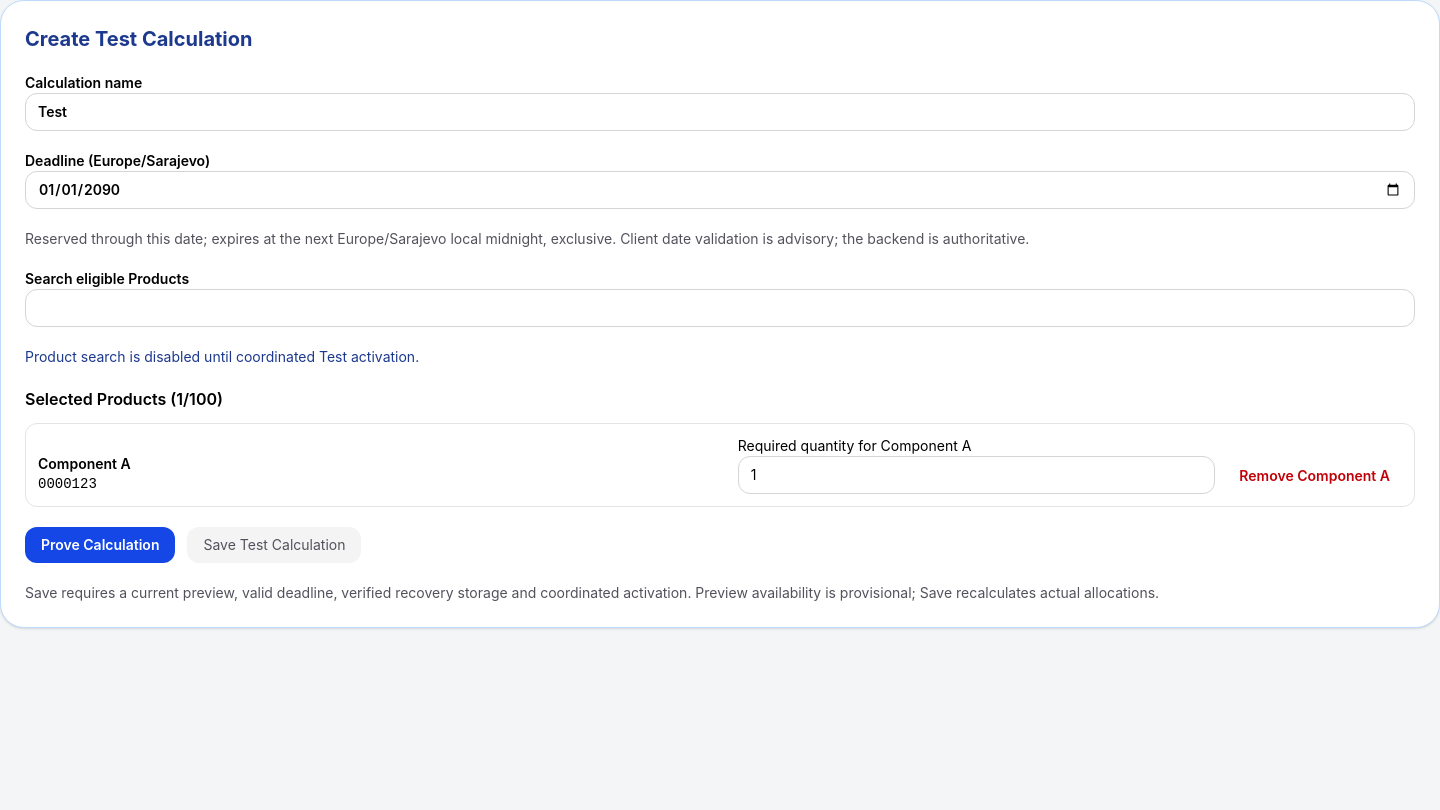
Test case: Test Calculation editor › rejects invalid quantity 0 visibly
Replace the text in the field labelled "Required quantity for Component A" with "0" at coordinates (976, 475), box [738,456,1215,494]
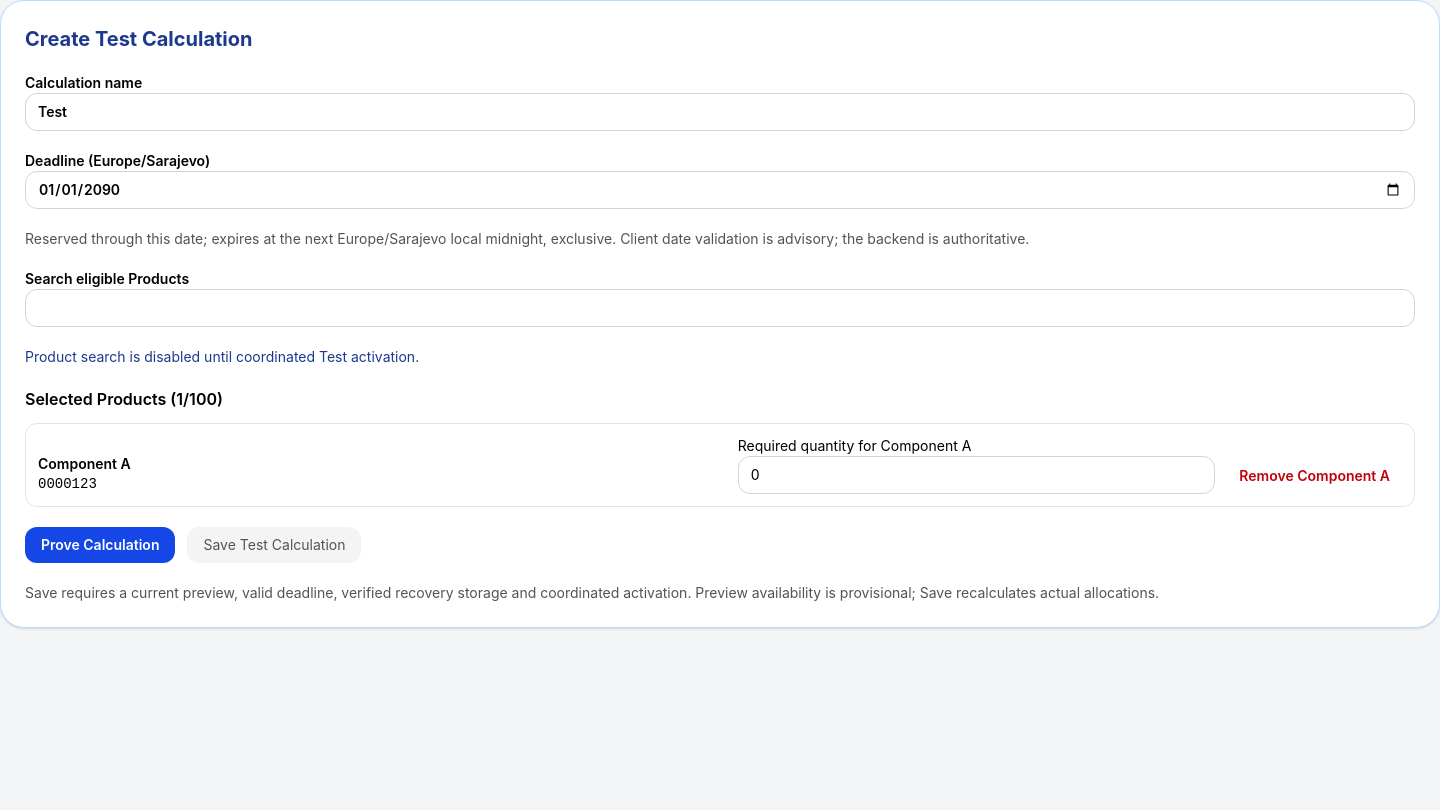
Click the button "Prove Calculation" at coordinates (100, 545), box [25,527,176,563]
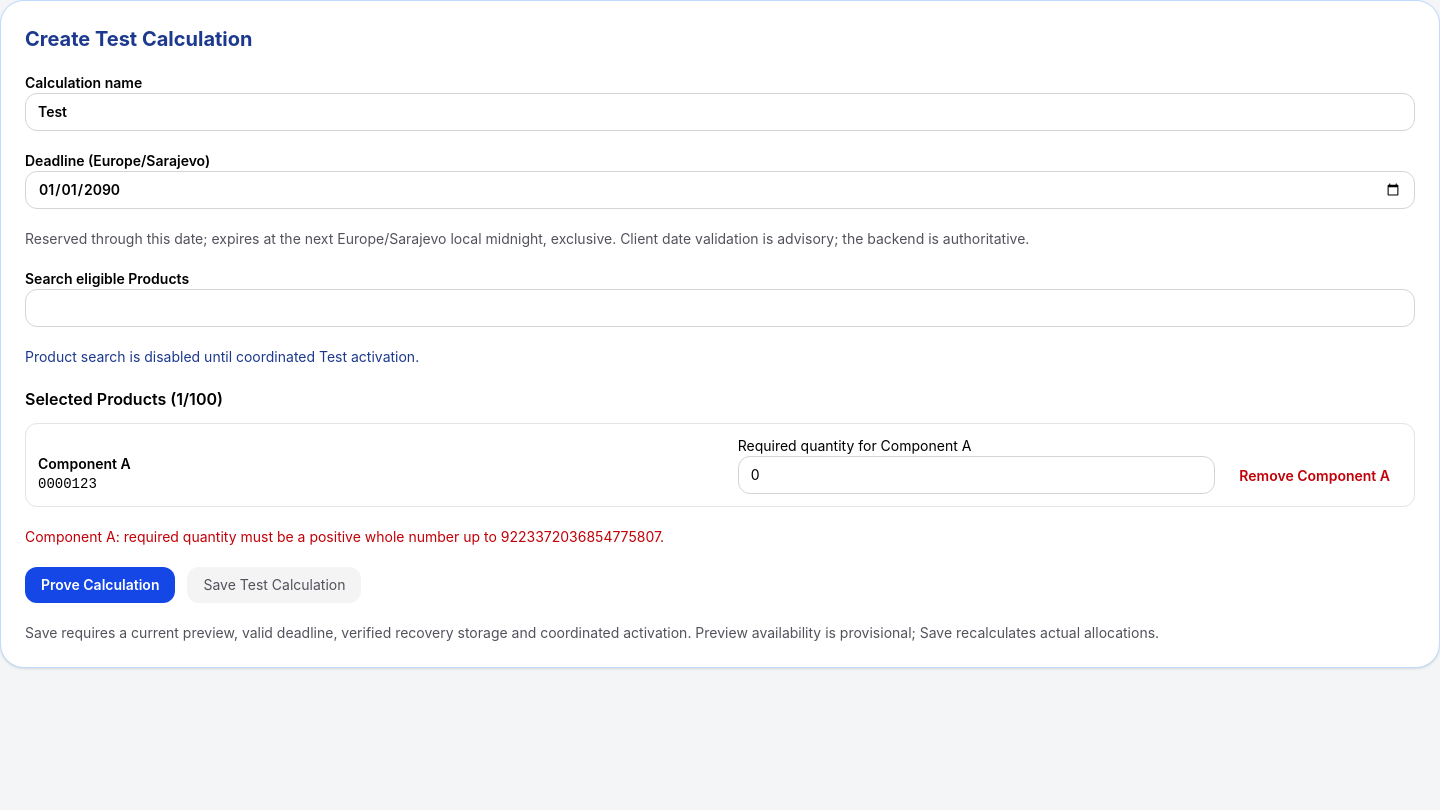
Now the message shows "positive whole number", box [25,528,664,545]
